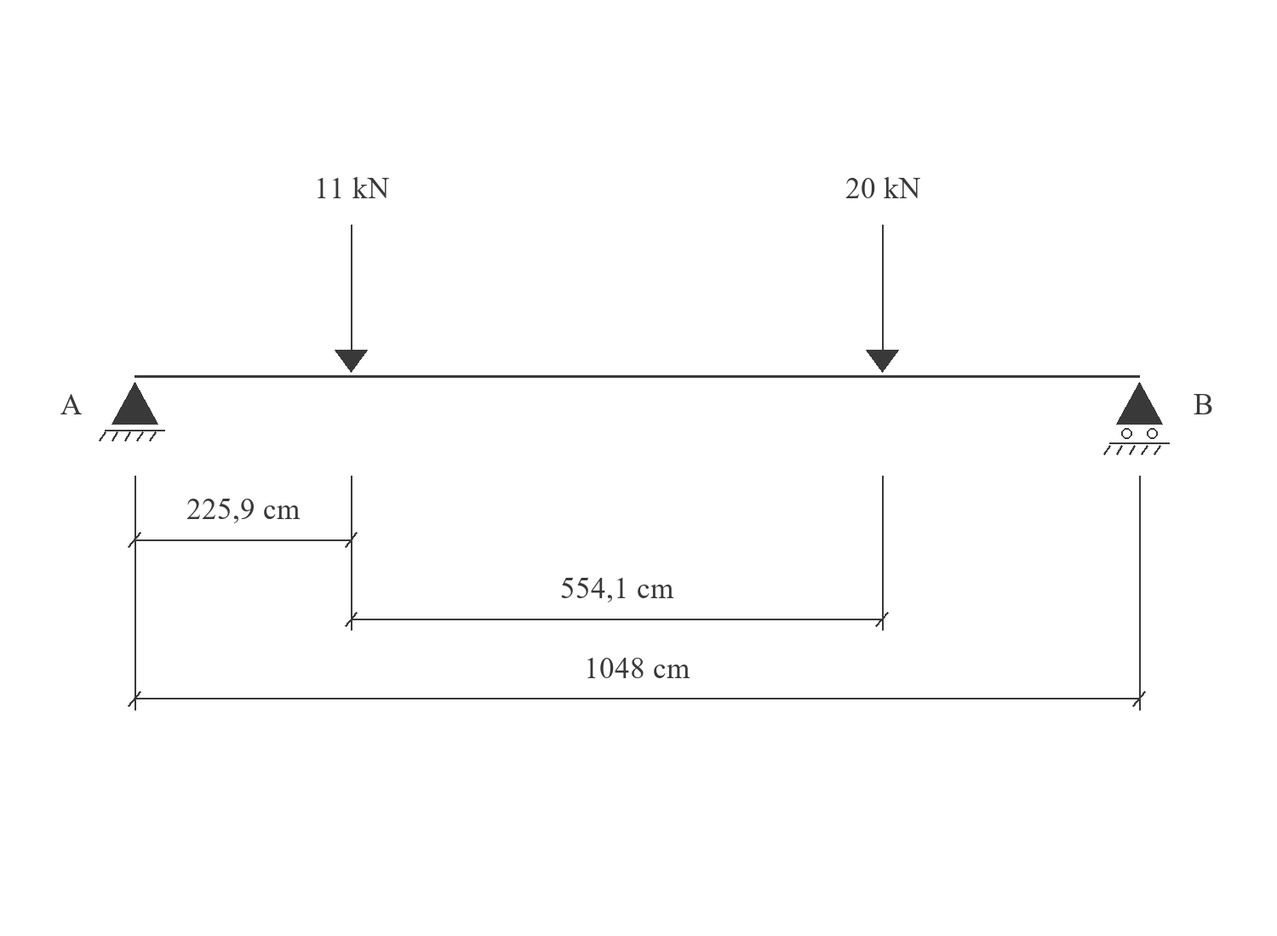pin_support: (99, 382, 165, 442)
point_load: (335, 225, 368, 373), (866, 225, 899, 373)
roller_support: (1103, 382, 1170, 455)
